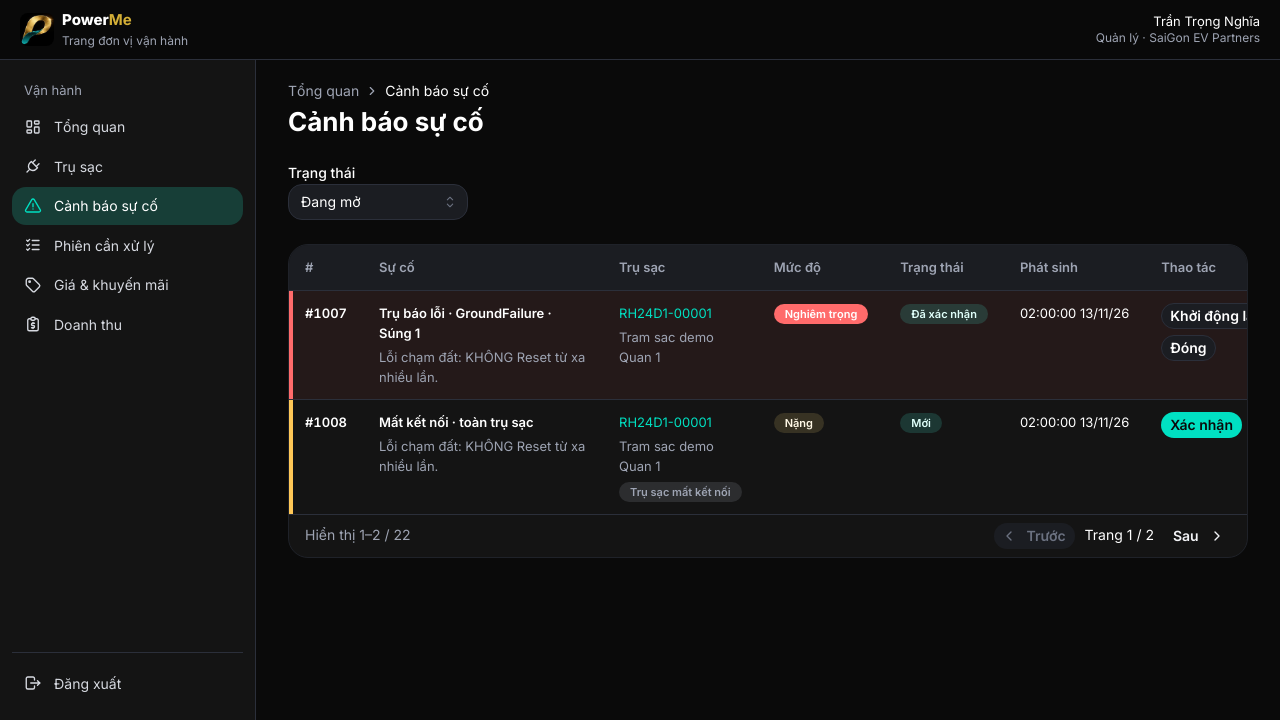
it: Cảnh báo sự cố (màn 21) › table with pager: range, next page sends page=2, ends disabled
Expected: the column heading "Trạng thái" is shown, [884, 245, 1004, 290]
Expected: the text "Hiển thị 1–2 / 22" is shown, [305, 525, 411, 546]
Click the button with aria-label "Sau ›" at coordinates (1198, 536), box [1164, 523, 1231, 549]
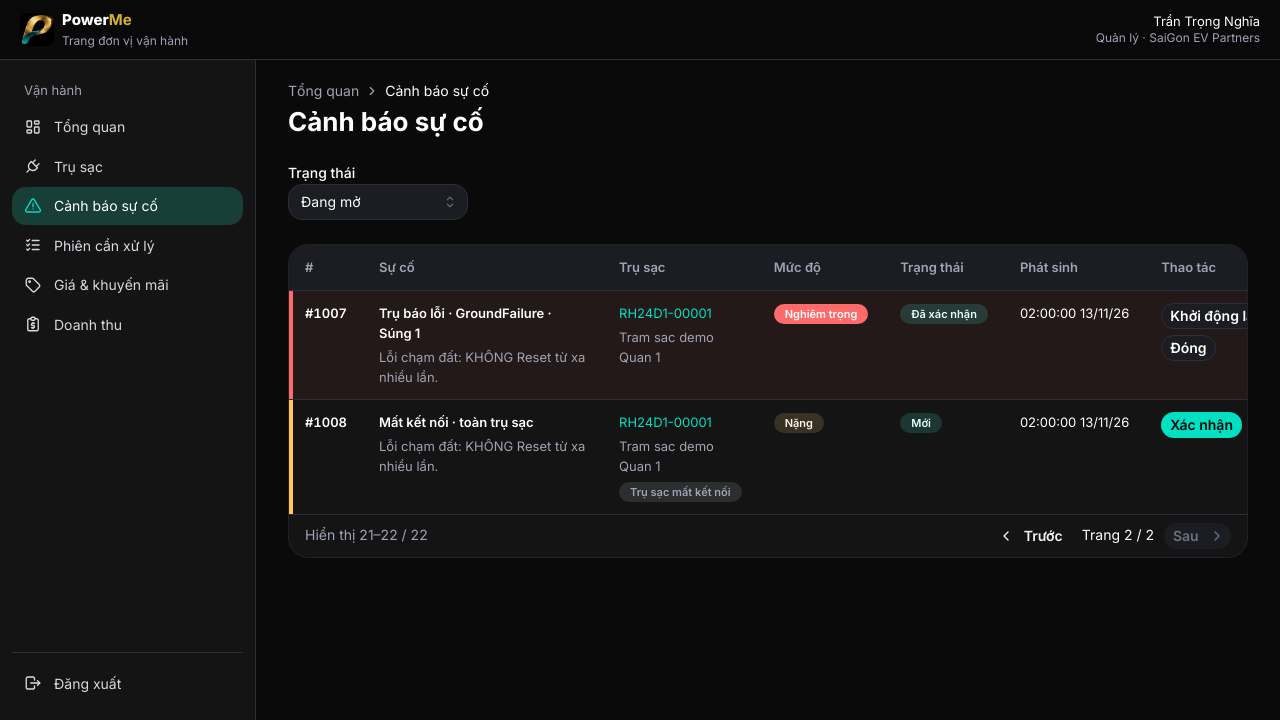
Expected: the text "Trang 2 / 2" is shown, [1082, 525, 1154, 546]
Expected: the button with aria-label "Sau ›" is disabled, [1164, 523, 1231, 549]
Expected: the text "Hiển thị 21–22 / 22" is shown, [305, 525, 428, 546]
